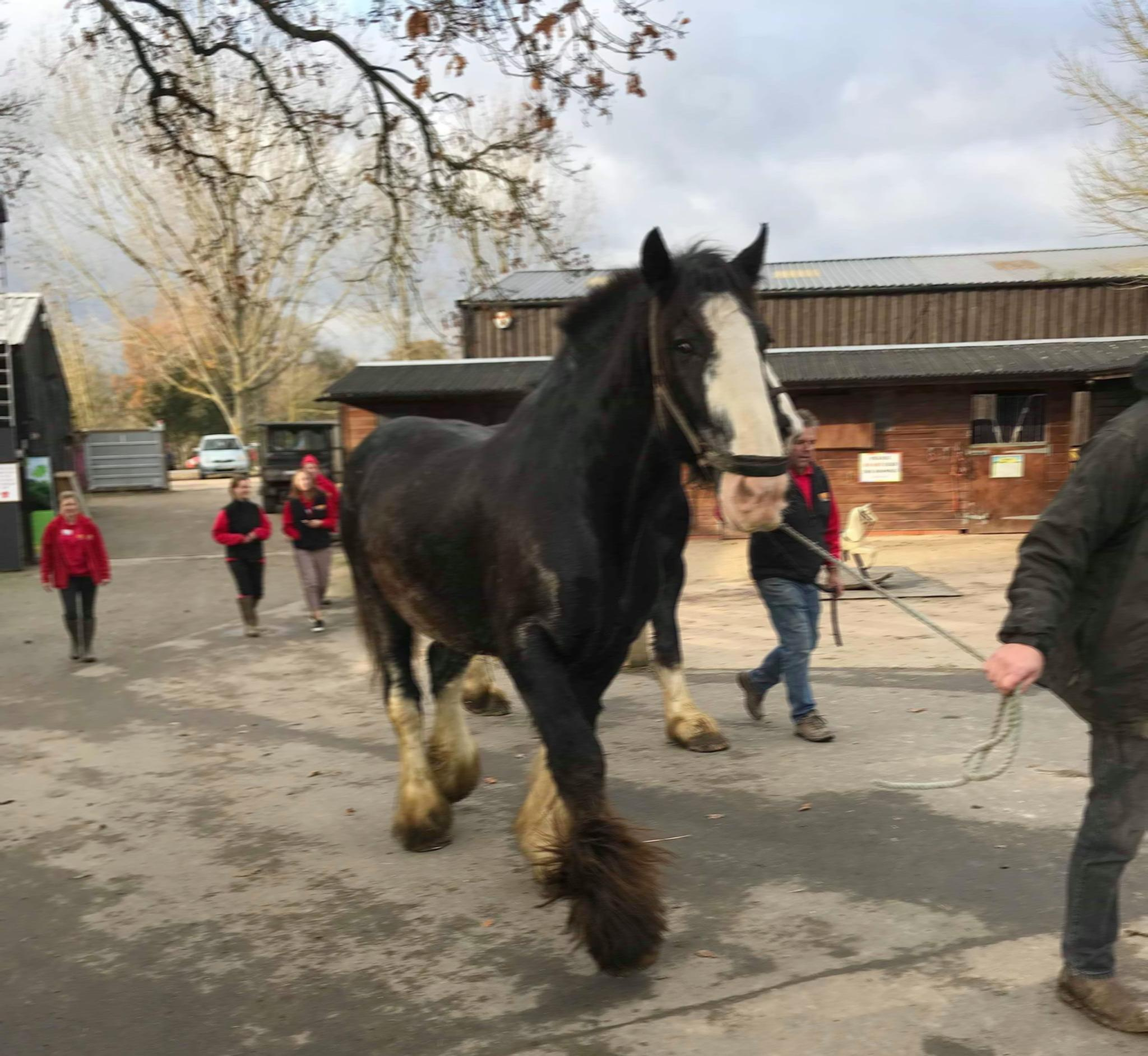horse: (320, 216, 808, 995)
